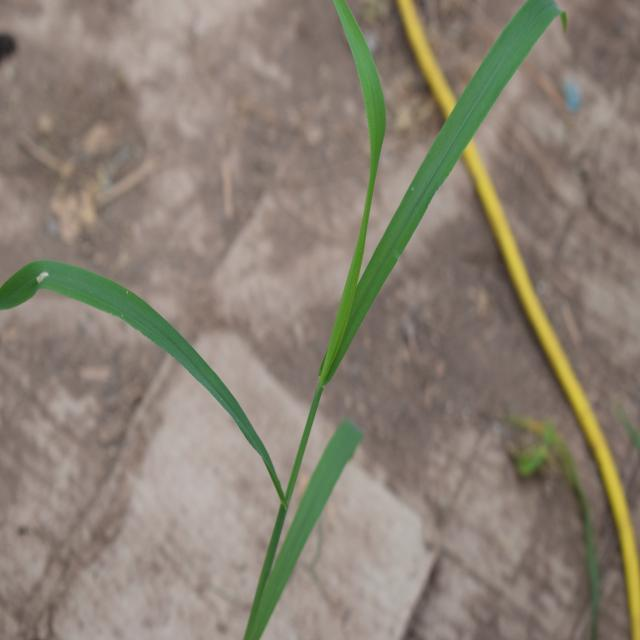crabgrass: (2, 0, 520, 562)
